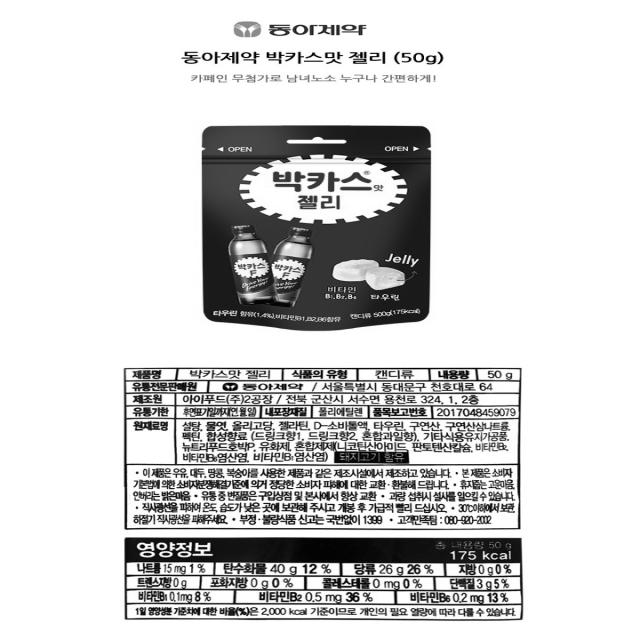Nutrition Label: (120, 536, 551, 640)
